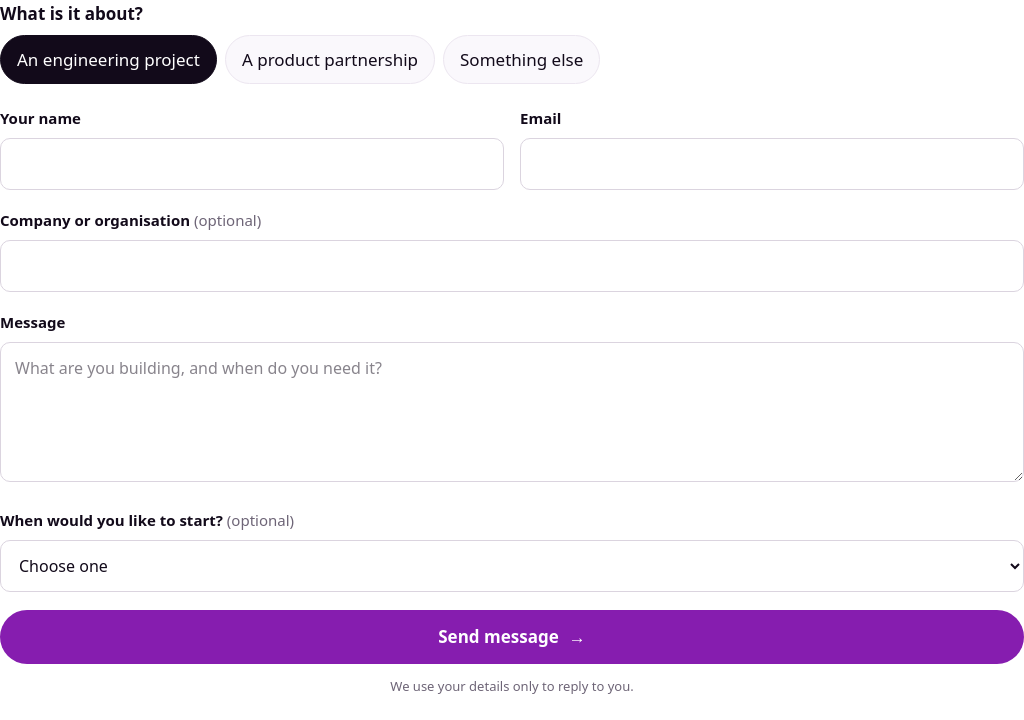
it: EnquiryForm › shows field errors next to each field and a summary
The width and height of the screenshot is (1024, 720).
Click the button "Send message →" at (512, 637), box [0, 610, 1023, 664]
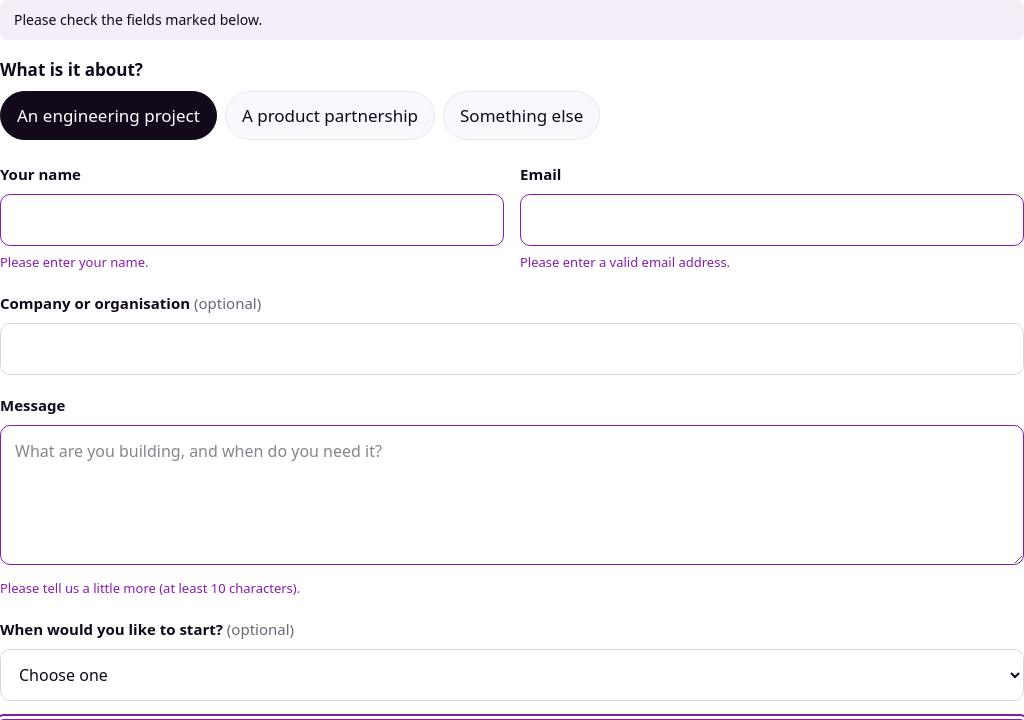
Now the message reads "Please check the fields marked below.", box [14, 10, 262, 29]
